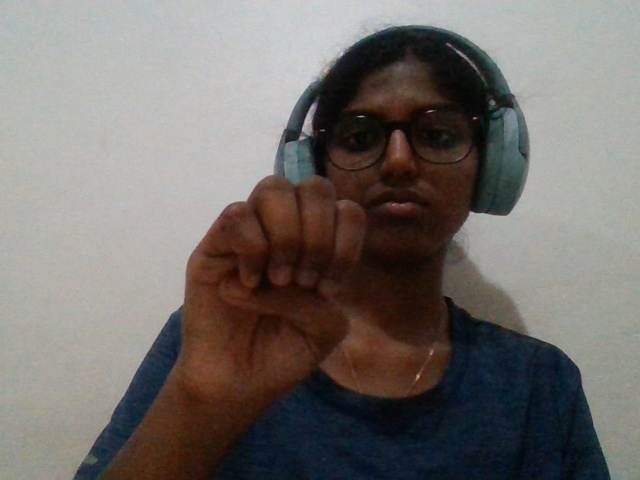E: (132, 158, 414, 453)
